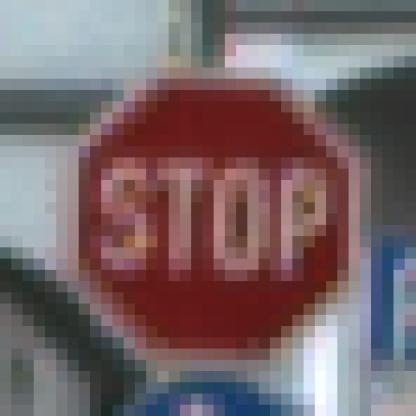stop: (48, 49, 374, 376)
